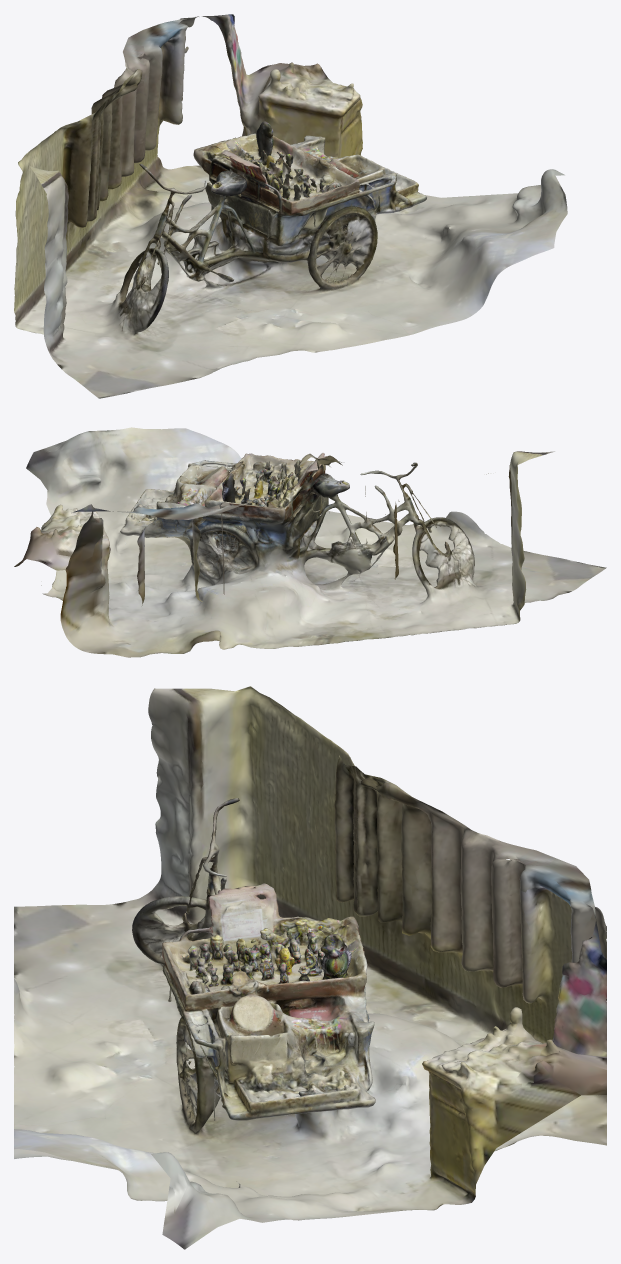
The picture shows the model from 3 angles, top to bottom: view 1: azimuth 30°, elevation 25°; view 2: azimuth 150°, elevation 25°; view 3: azimuth 270°, elevation 25°; orthographic projection. The views are drawn at different scales.
Size of the model in its own units: 2.4 by 0.837 by 1.65.
1 material, 1 textured.
